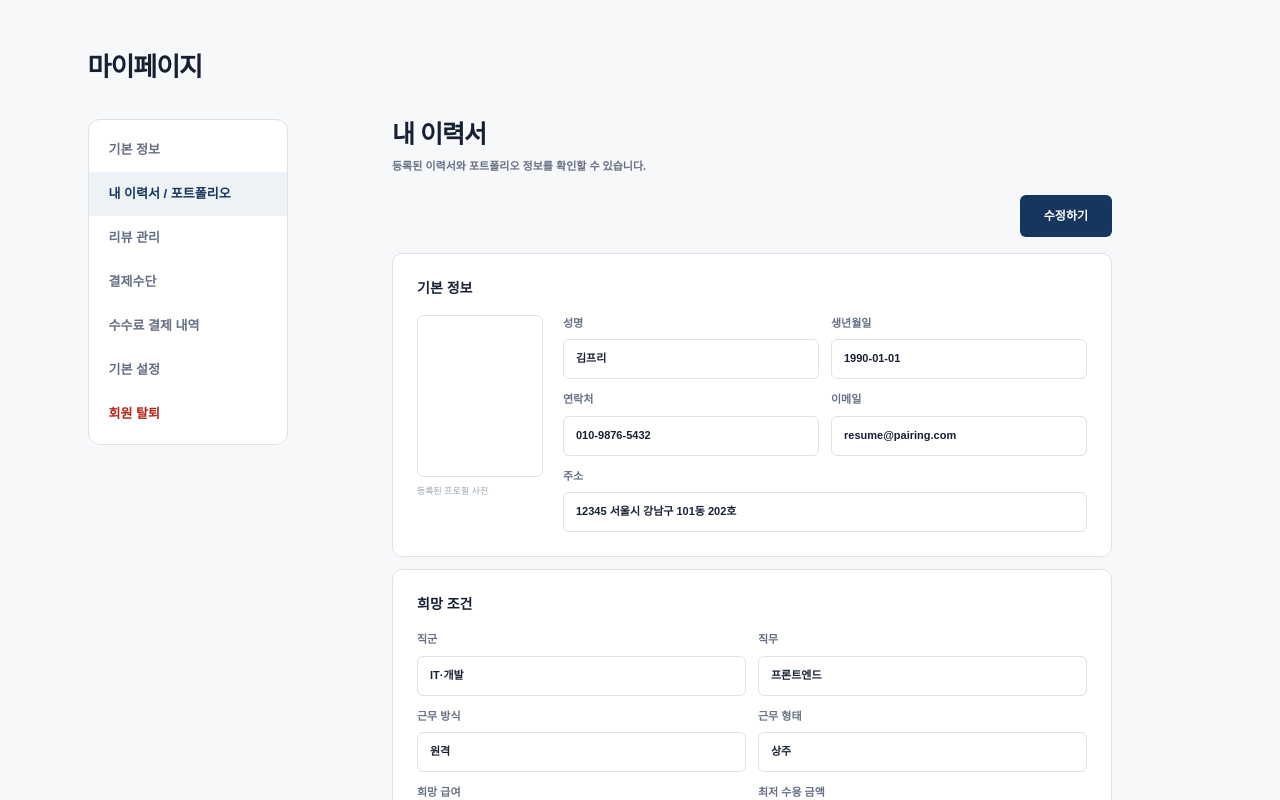
Test: 저장에 실패하면 오류 메시지를 보여주고 폼 화면을 유지한다
The image size is (1280, 800).
What coordinates should you click on to do the following:
click the button "수정하기"
I would click on:
 (1066, 216)
Its box is x1=1020 y1=195 x2=1112 y2=237.
(page scrolled)
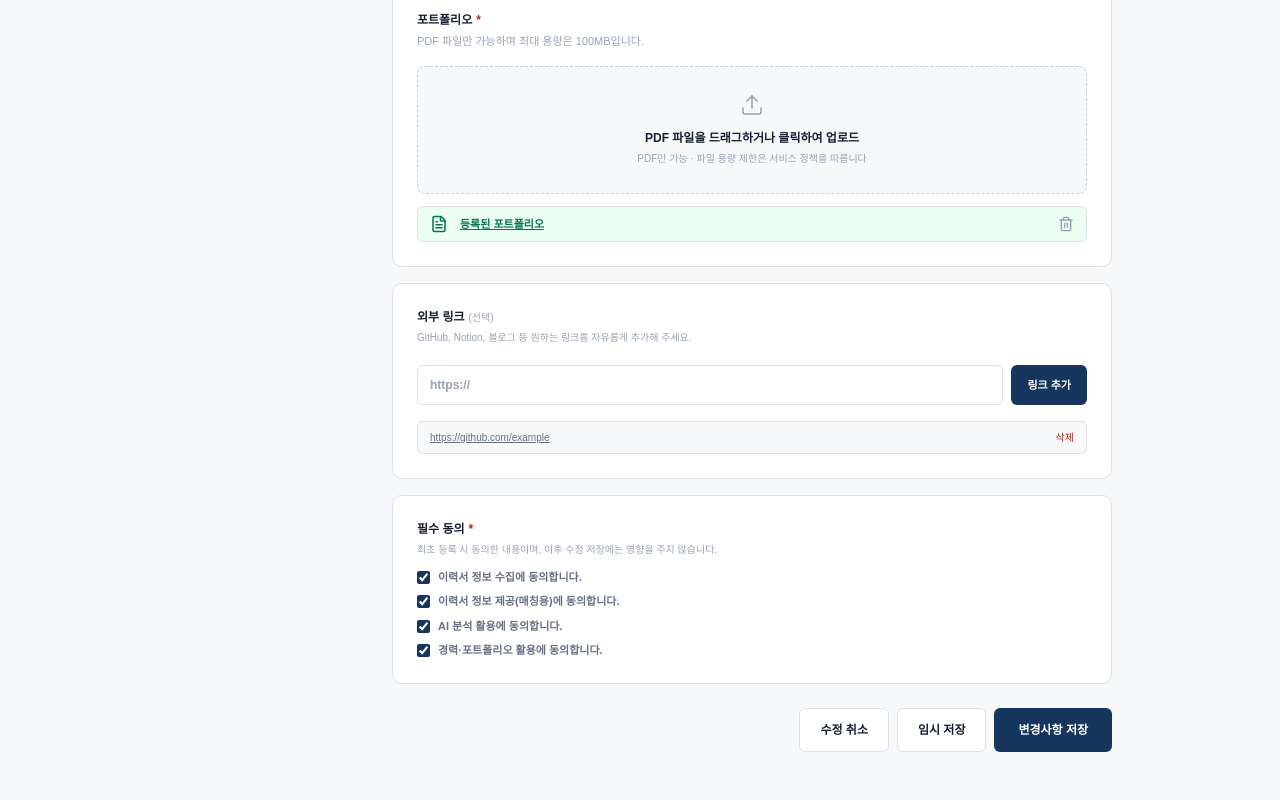
What coordinates should you click on to do the following:
click the button "변경사항 저장"
I would click on:
 (1053, 730)
Its box is x1=994 y1=708 x2=1112 y2=752.
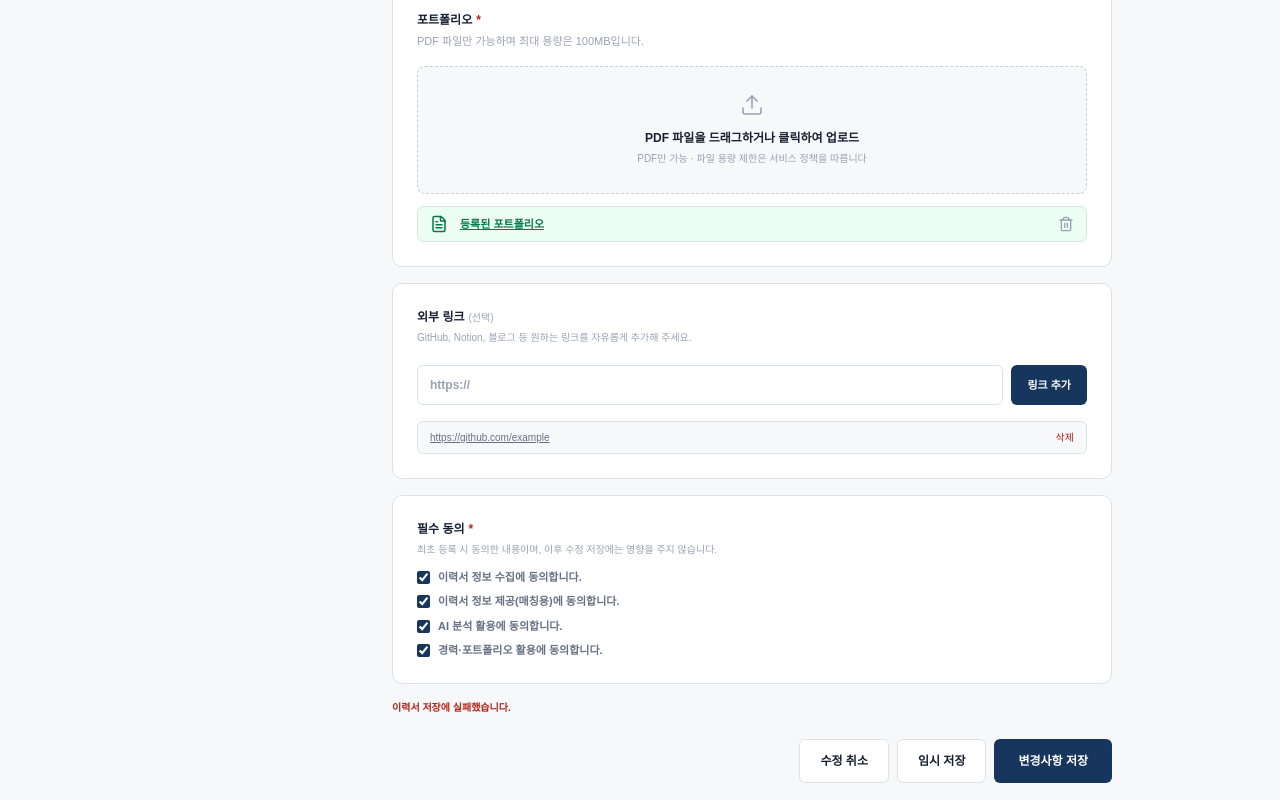
Expected: the button "변경사항 저장" is shown, x1=994 y1=739 x2=1112 y2=783
Expected: the text "이력서 저장에 실패했습니다." is shown, x1=392 y1=702 x2=511 y2=713
